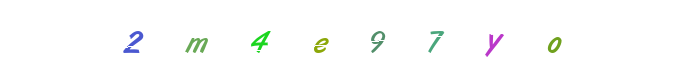2: (94, 0, 174, 80)
4: (276, 0, 356, 80)
7: (310, 0, 390, 80)
9: (290, 0, 370, 80)
E: (277, 0, 357, 80)
M: (221, 0, 301, 80)
O: (453, 0, 533, 80)
Y: (403, 0, 483, 80)
